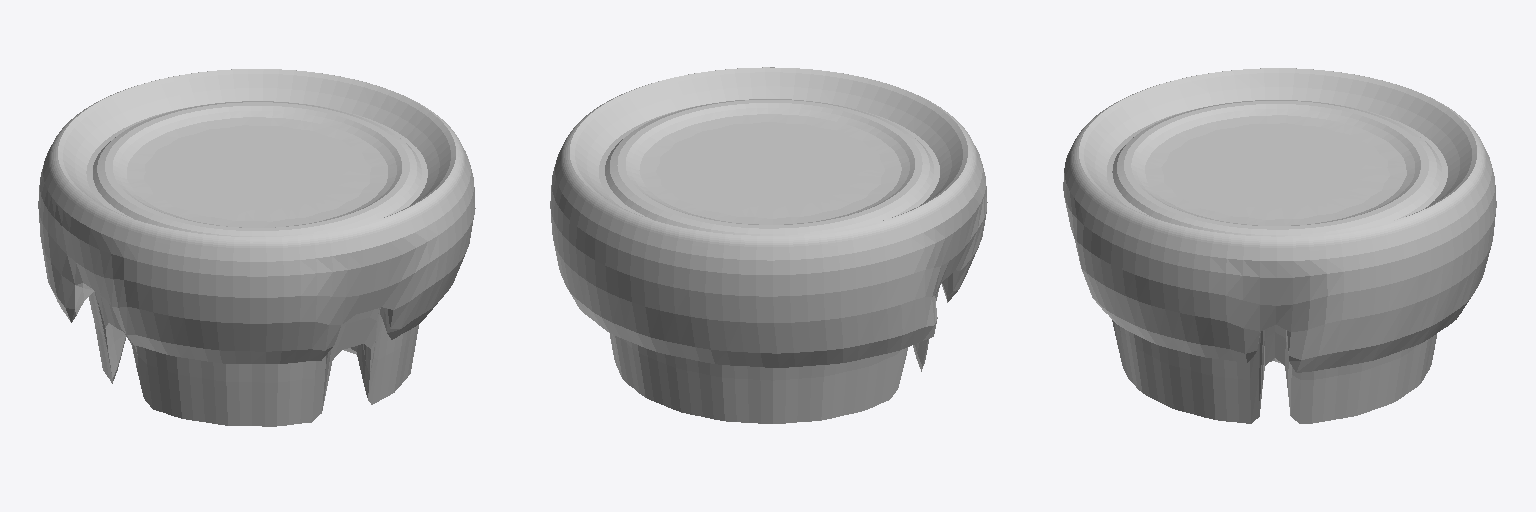
Rendered from R-ProjectorPart.obj.
3 renders of one model, left to right at view 1: azimuth 30°, elevation 25°; view 2: azimuth 150°, elevation 25°; view 3: azimuth 270°, elevation 25°, orthographic.
Visible parts, largest first — view 1: pCylinder11; view 2: pCylinder11; view 3: pCylinder11.
Boxes of the visible parts, <box> form: pCylinder11: <box>38,69,475,426</box>; pCylinder11: <box>550,67,987,423</box>; pCylinder11: <box>1063,68,1496,423</box>.
Size of the model in its own units: 1.7 by 0.9045 by 1.71.